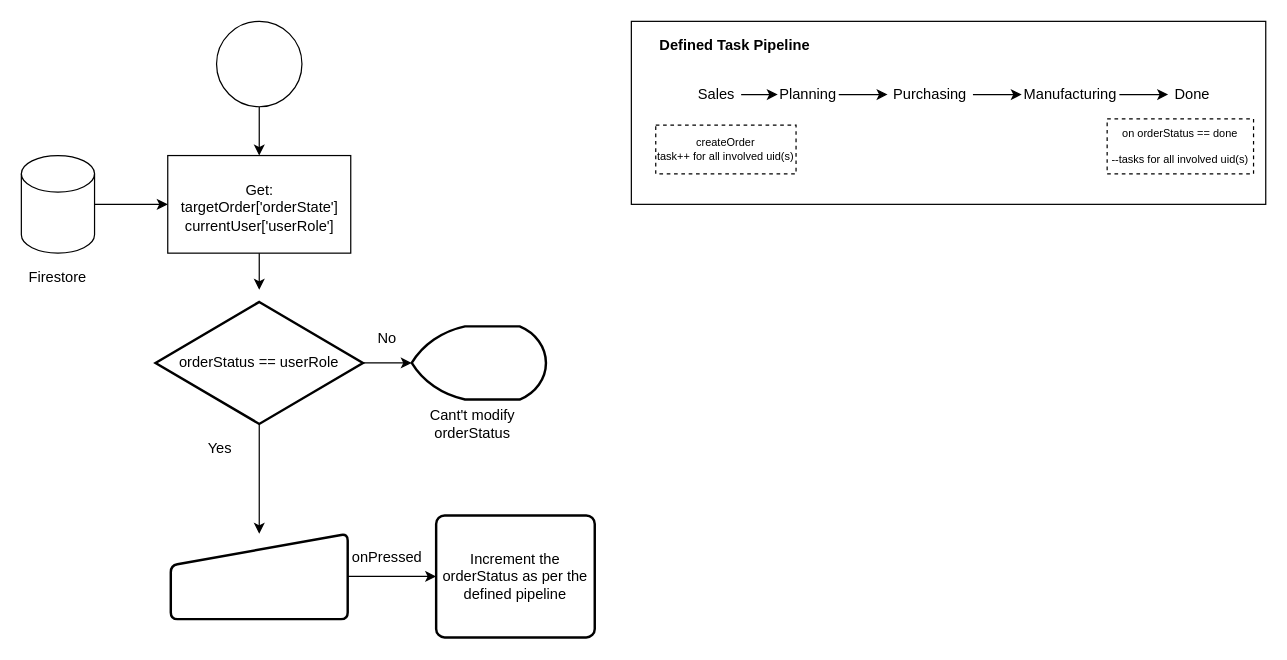
Image size: 1287x660. Some labels were removed from this diagram. The shapes that lost their labels are listed below. From the top down, each one's box as (x1, y1, x2, y2) in pixels, then its label:
(215, 20, 302, 107): Start
(410, 325, 547, 400): Paint an empty container
(169, 532, 348, 620): "Click to complete task"
